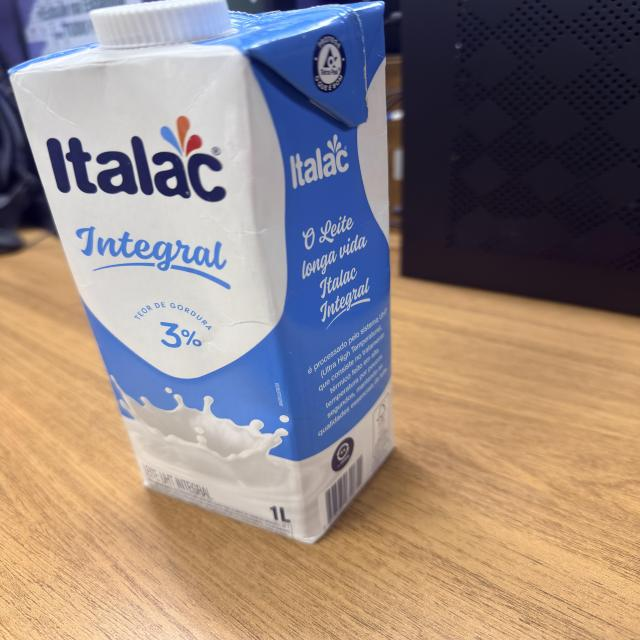Caixa de Leite: (11, 4, 392, 546)
